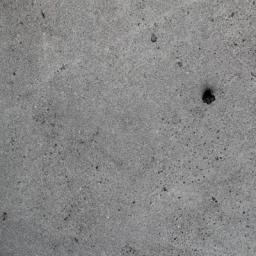FOD: (200, 87, 218, 107)
